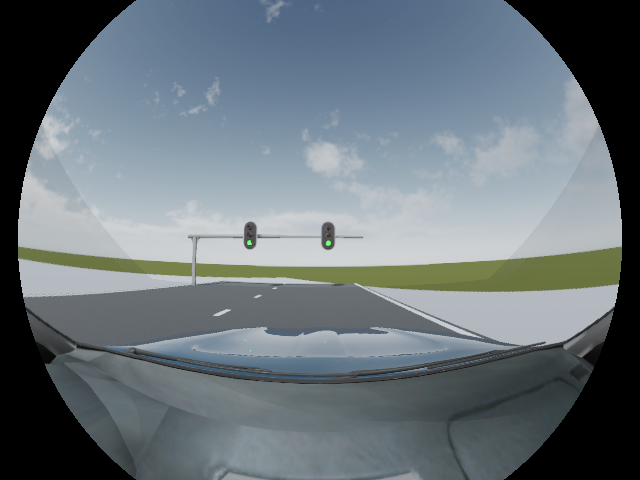Green Light: (322, 221, 335, 250), (244, 222, 257, 249)
